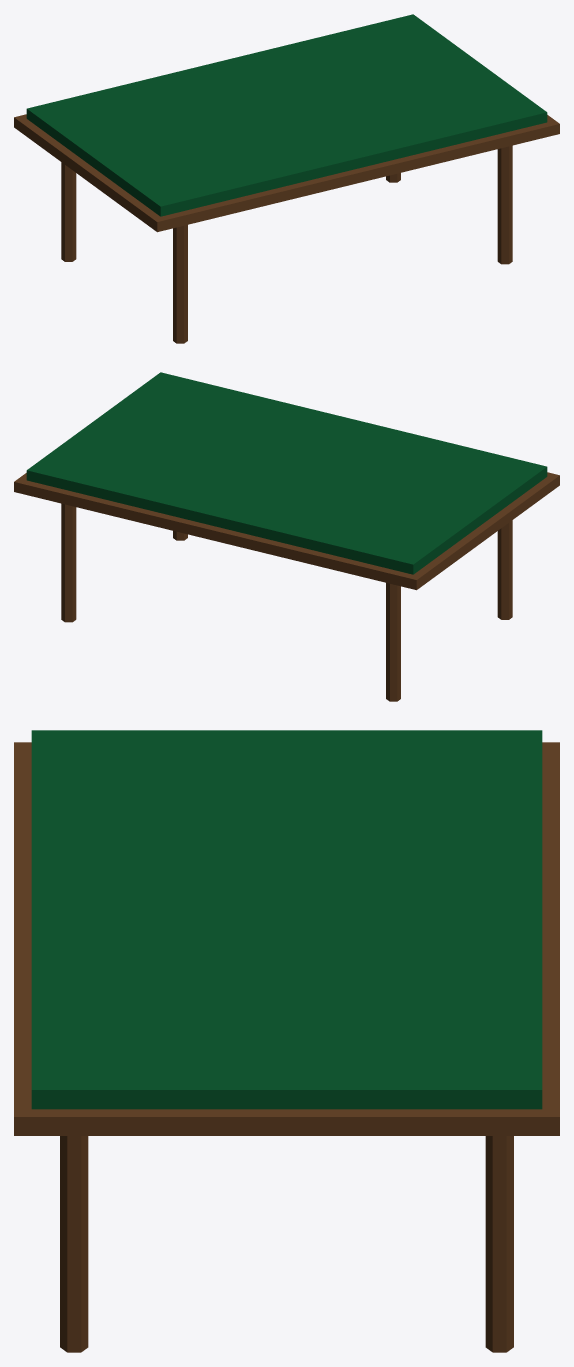
Rendered from Prop_OR_FeltTable_07.glb.
3 renders of one model, top to bottom at view 1: azimuth 30°, elevation 25°; view 2: azimuth 150°, elevation 25°; view 3: azimuth 270°, elevation 25°, orthographic. The views are drawn at different scales.
Visible parts, largest first — view 1: Prop_OR_FeltTable_07; view 2: Prop_OR_FeltTable_07; view 3: Prop_OR_FeltTable_07.
Boxes of the visible parts, x1,y1,x2,y2 form: Prop_OR_FeltTable_07: (14, 14, 559, 343); Prop_OR_FeltTable_07: (14, 372, 559, 701); Prop_OR_FeltTable_07: (14, 730, 559, 1352).
Bounding box in the file's own units: 2.5 × 0.89 × 1.54.
